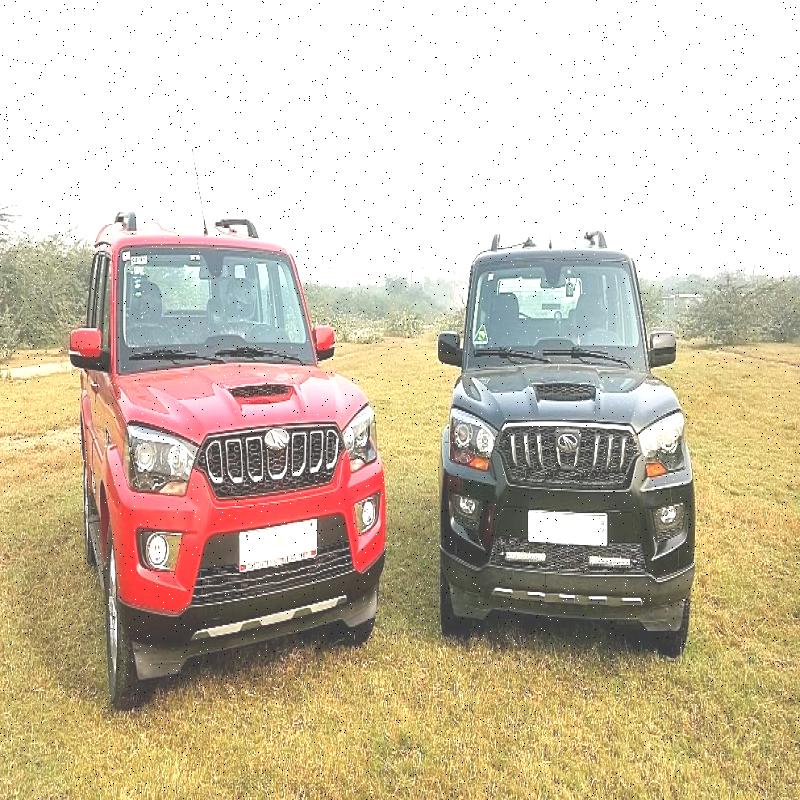car: (74, 211, 370, 675), (433, 220, 690, 608)
